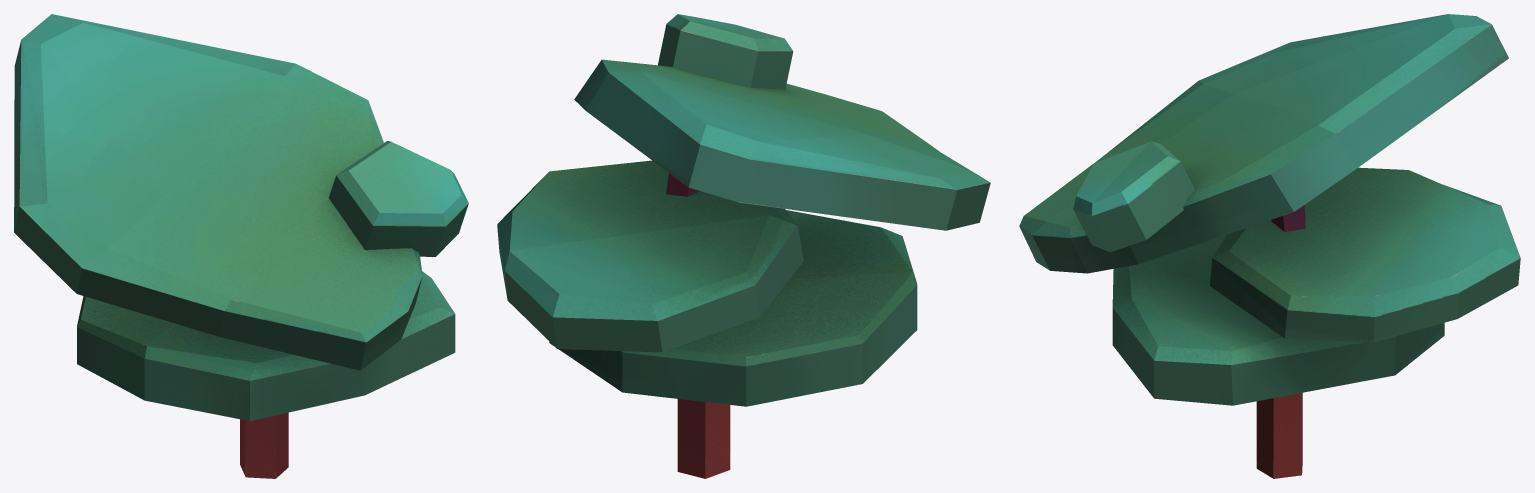
The model's file is Tree_3.fbx.
The picture shows the model from 3 angles, left to right: view 1: azimuth 30°, elevation 25°; view 2: azimuth 150°, elevation 25°; view 3: azimuth 270°, elevation 25°; orthographic projection. The views are drawn at different scales.
Parts seen in each view (by area): view 1: Tree_3; view 2: Tree_3; view 3: Tree_3.
Part boxes in pixels (x1=…): Tree_3: x1=14, y1=14, x2=468, y2=478; Tree_3: x1=497, y1=14, x2=990, y2=478; Tree_3: x1=1019, y1=14, x2=1520, y2=478.
Size of the model in its own units: 9.57 by 9.62 by 11.03.
